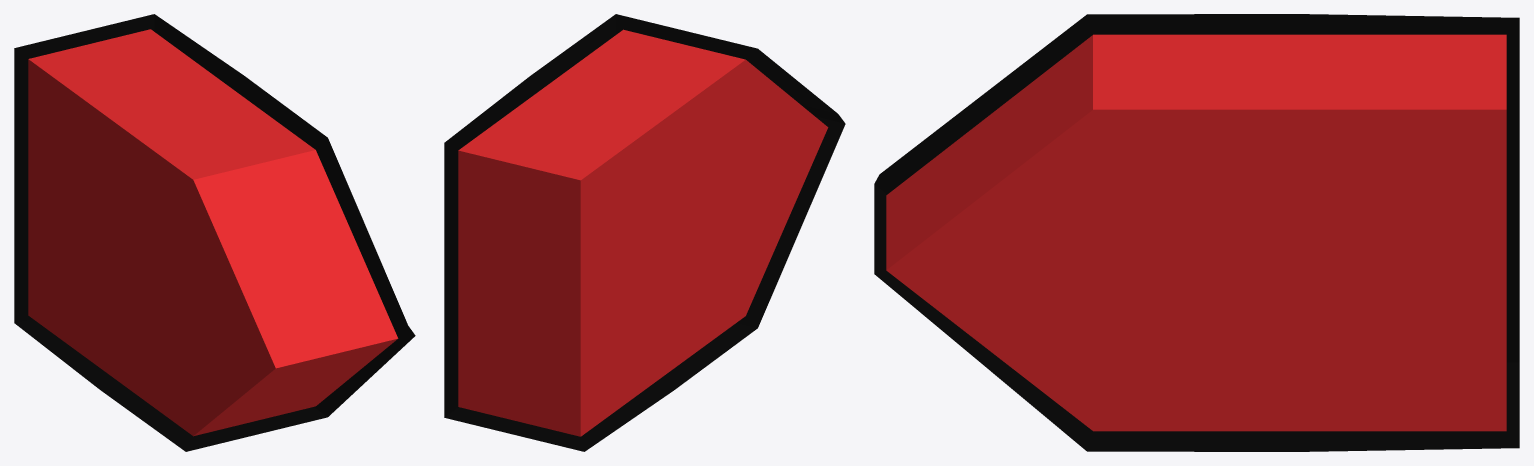
3 views of the same model, side by side, from view 1: azimuth 30°, elevation 25°; view 2: azimuth 150°, elevation 25°; view 3: azimuth 270°, elevation 25° (orthographic). The views are drawn at different scales.
Parts seen in each view (by area): view 1: Cube; view 2: Cube; view 3: Cube.
Boxes of the visible parts, x1,y1,x2,y2 form: Cube: [14, 14, 415, 451]; Cube: [444, 14, 845, 451]; Cube: [874, 14, 1519, 451].
Bounding box in the file's own units: 0.4822 × 0.8723 × 1.46.
